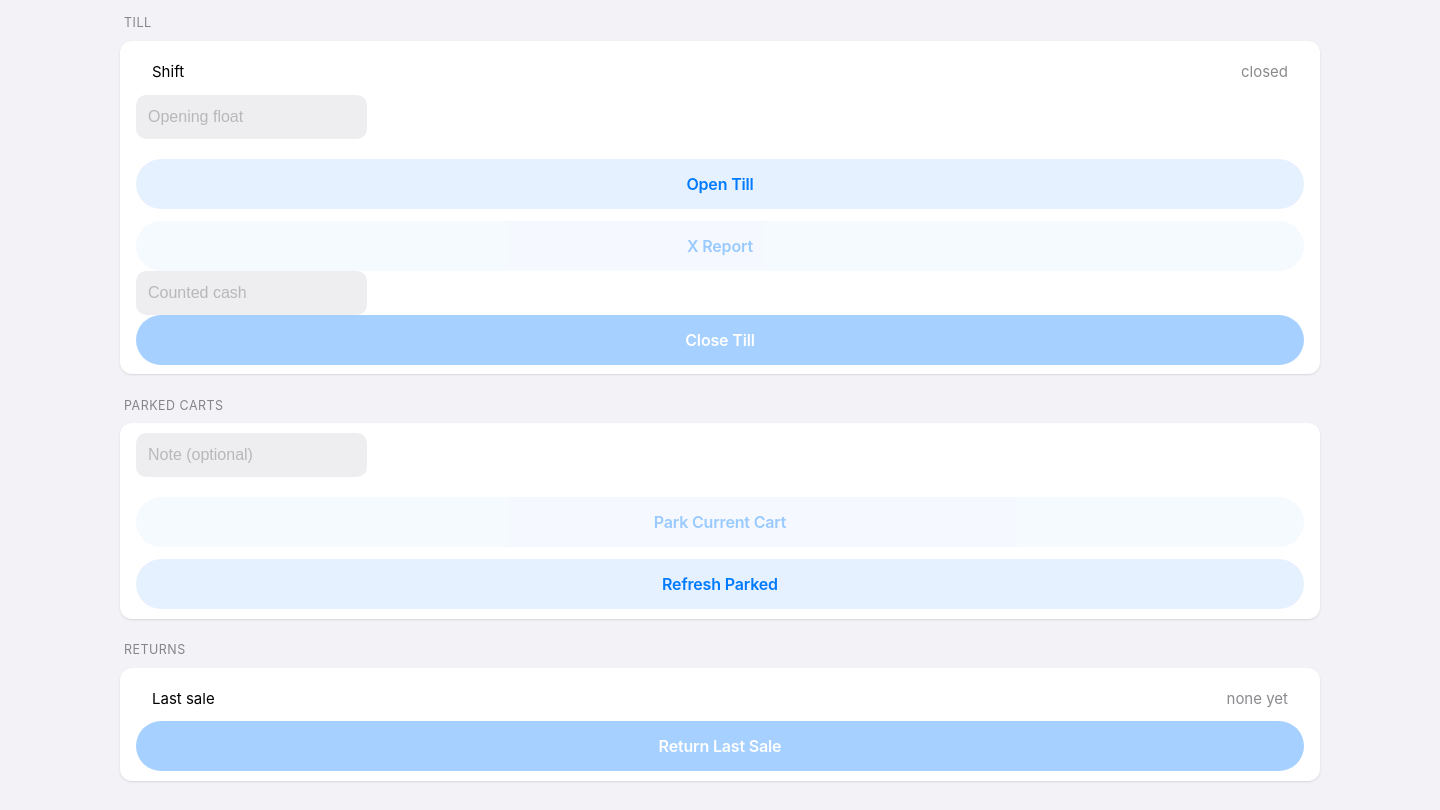
it: StoreOpsPanel till › closes the till with the counted cash and shows the variance
Click the button "Open Till": x=720, y=184 [136,159,1304,209]
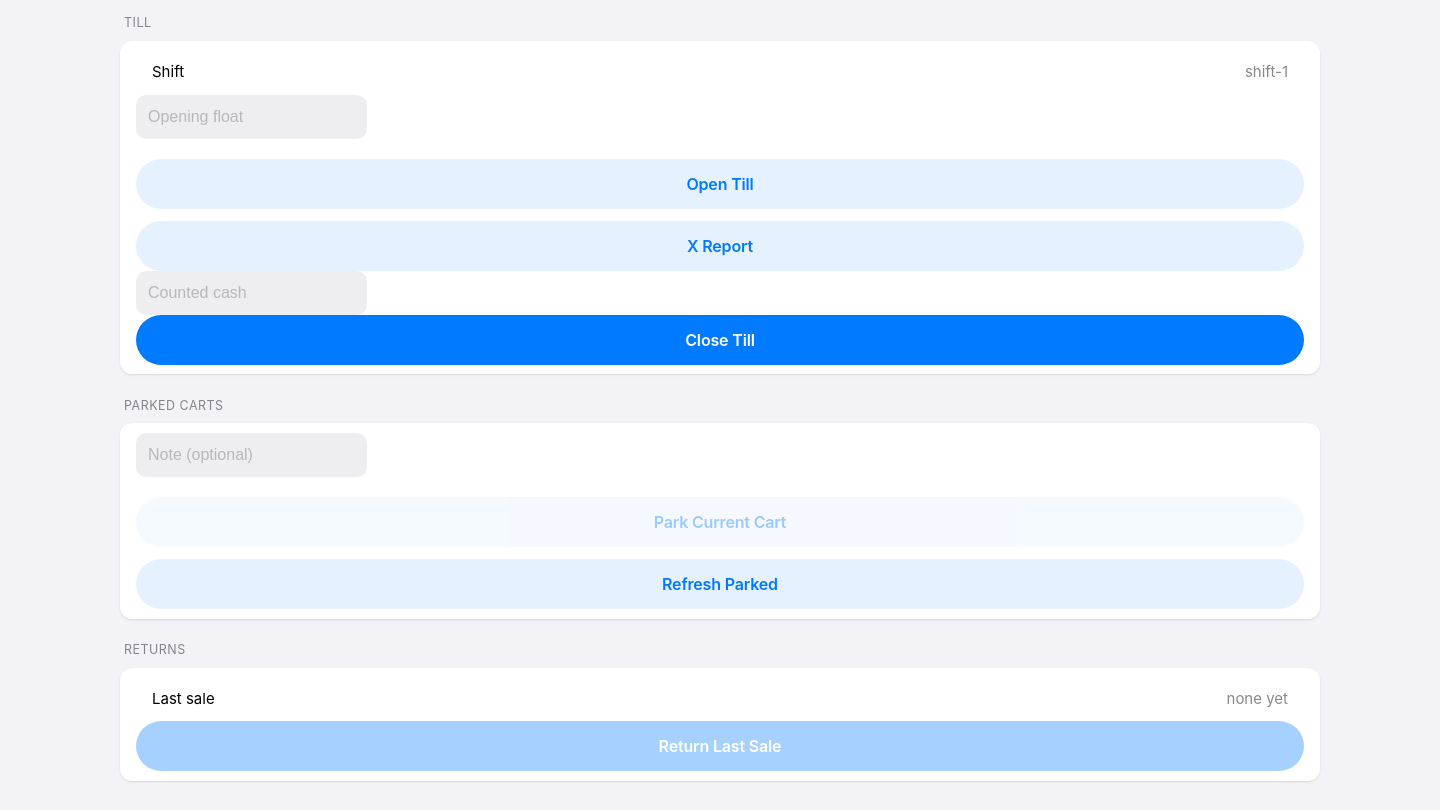
expect the text "shift-1" is shown: met, box [1245,62,1288,84]
In the number field labelled "Counted cash": x=252, y=293 [136,271,367,315], type "45"
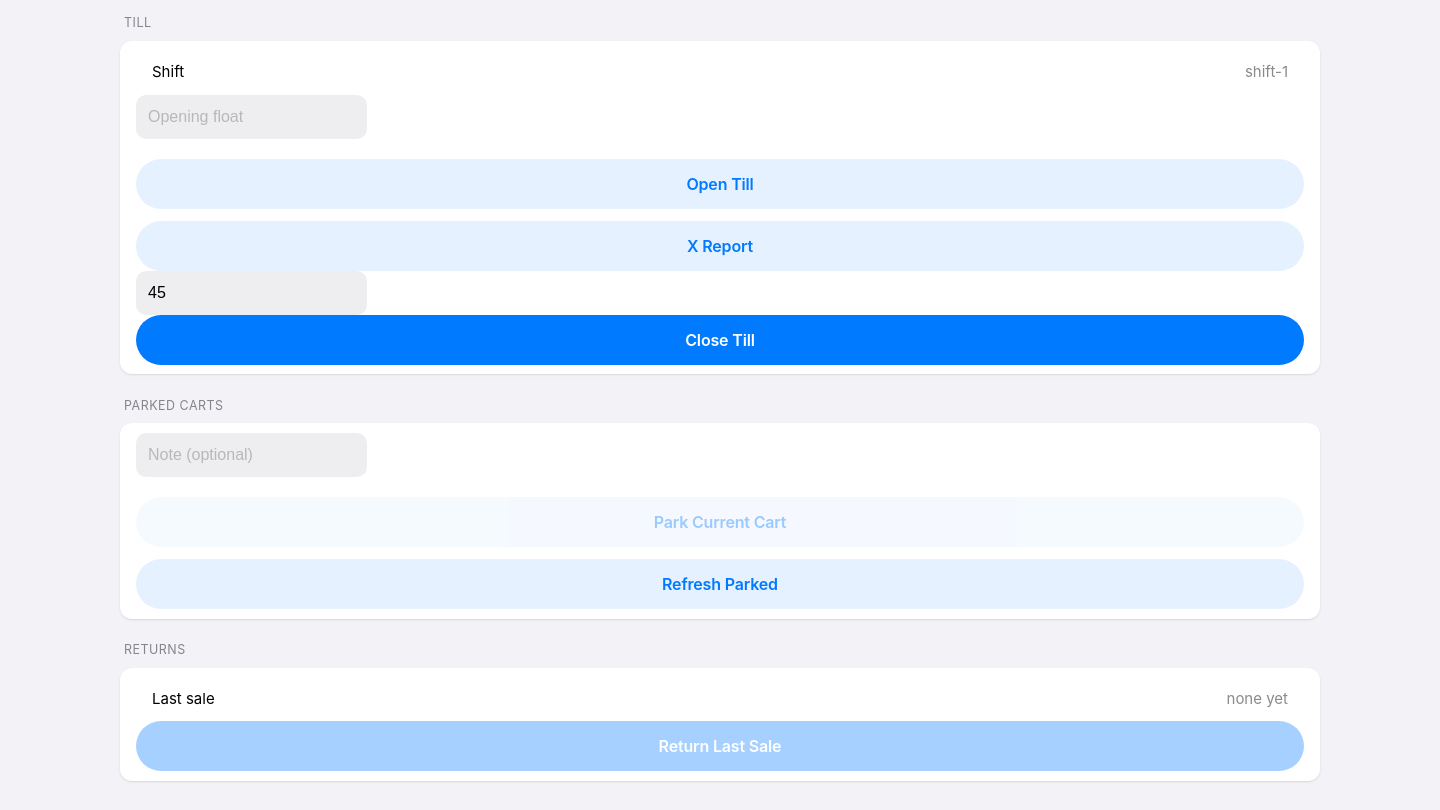
Click the button "Close Till": x=720, y=340 [136,315,1304,365]
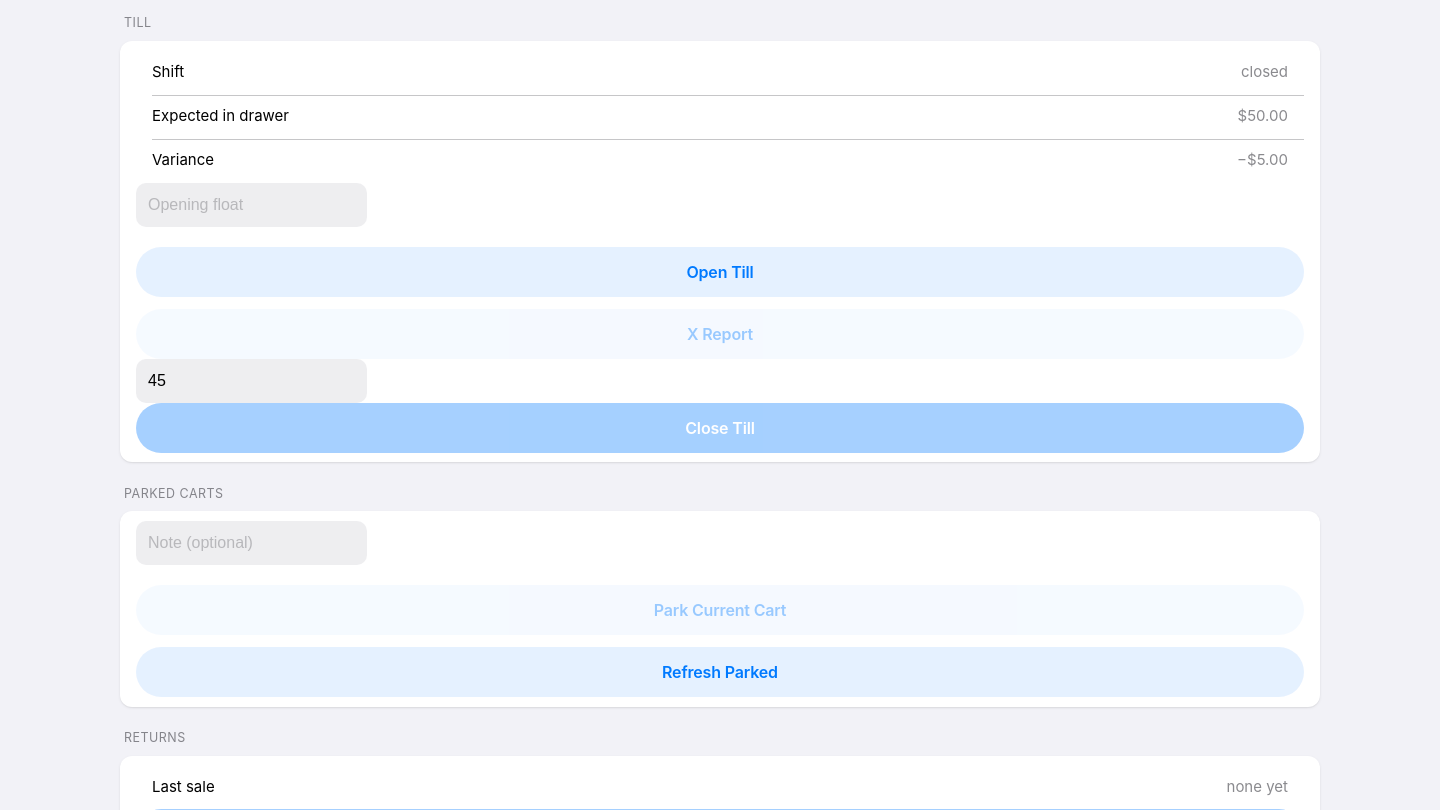
expect the text "−$5.00" is shown: met, box [1237,150,1288,172]
